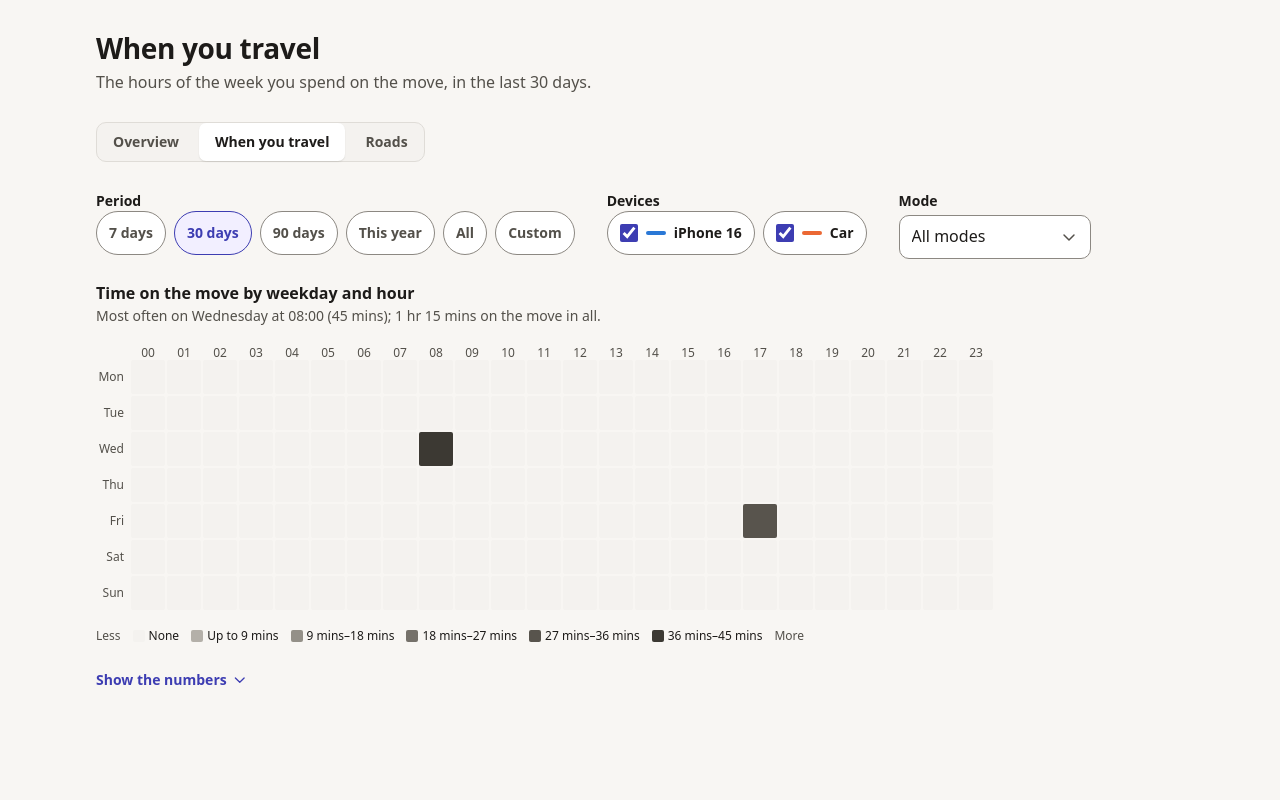
Test: when you travel › draws the hours of the week, for every mode or the one chosen
The width and height of the screenshot is (1280, 800).
expect the picture "Wednesday, 08:00–09:00" is shown: met, box [418,431,454,467]
Select "Cycling" in the dropdown labelled "Mode" at {"x": 994, "y": 237}, box [898,215,1090,259]
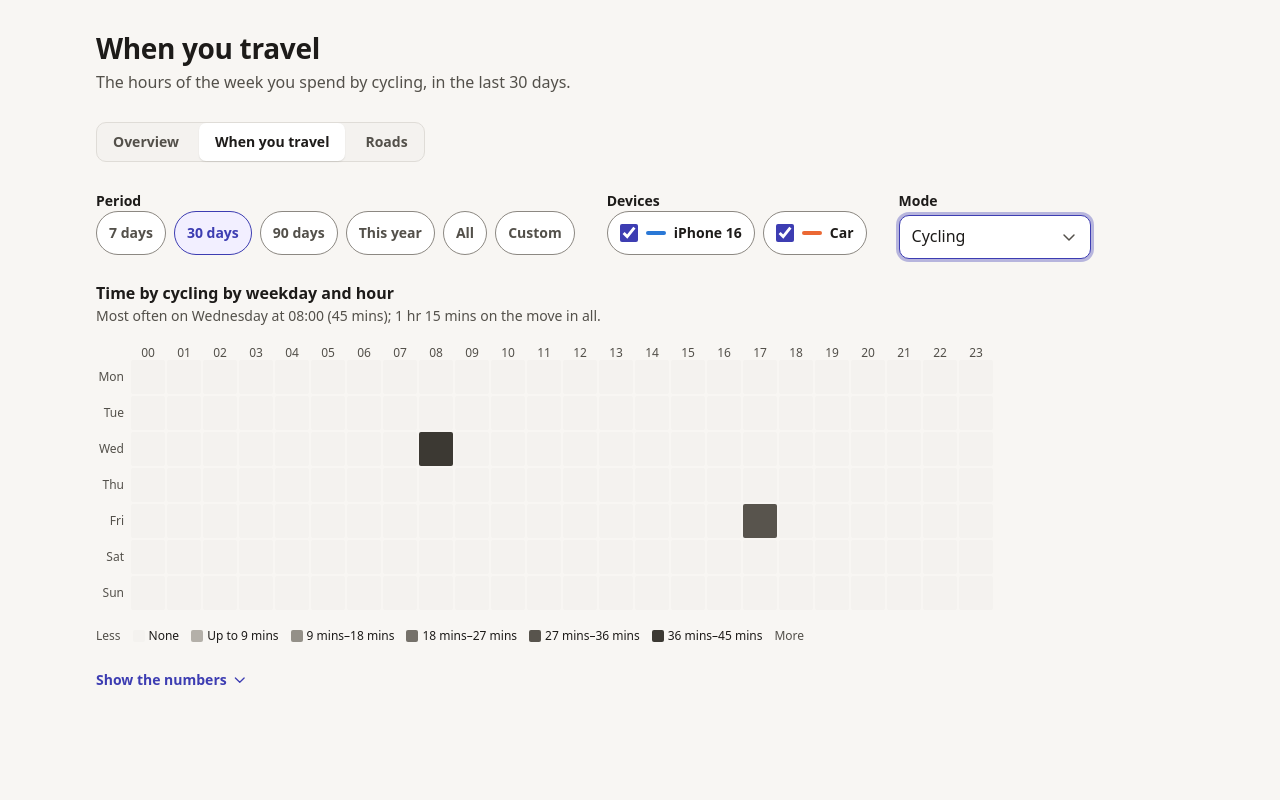
expect the element "Time by cycling by weekday and hour" is shown: met, box [96,283,1184,701]
